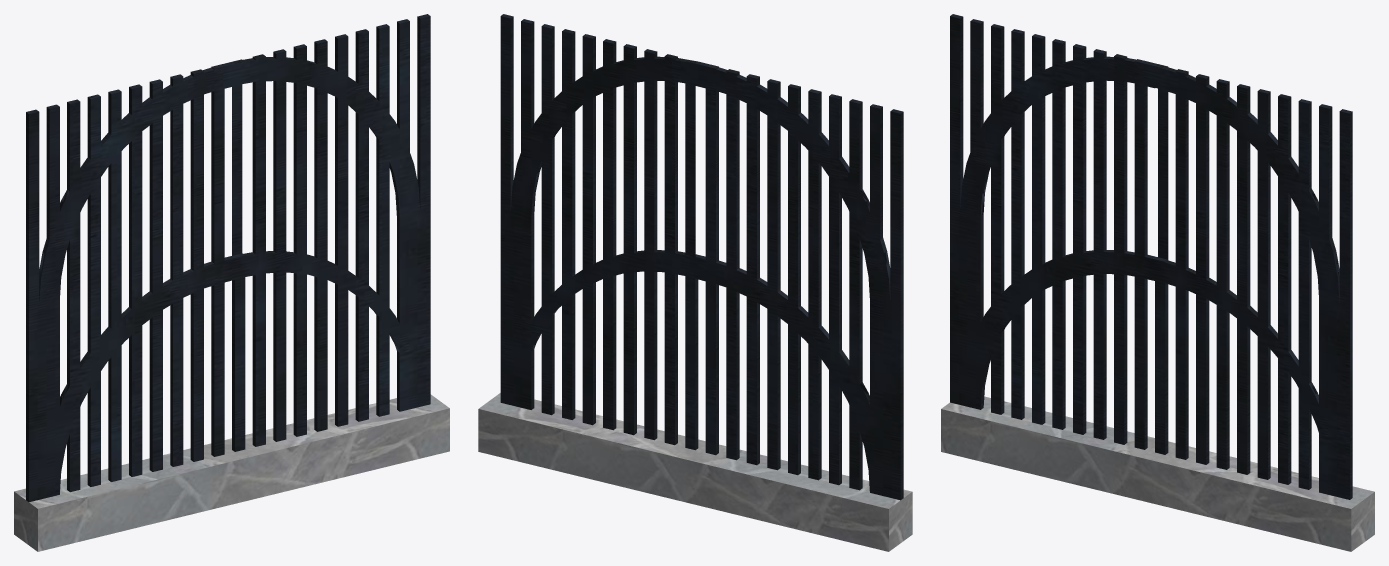
Rendered from fence.FBX.
The picture shows the model from 3 angles, left to right: view 1: azimuth 30°, elevation 25°; view 2: azimuth 150°, elevation 25°; view 3: azimuth 330°, elevation 25°; orthographic projection.
Parts seen in each view (by area): view 1: Model; view 2: Model; view 3: Model.
Part boxes in pixels (bbox=[...]): Model: bbox=[14, 14, 449, 551]; Model: bbox=[478, 14, 912, 551]; Model: bbox=[941, 14, 1374, 551].
Bounding box in the file's own units: 2 × 2 × 0.2.
